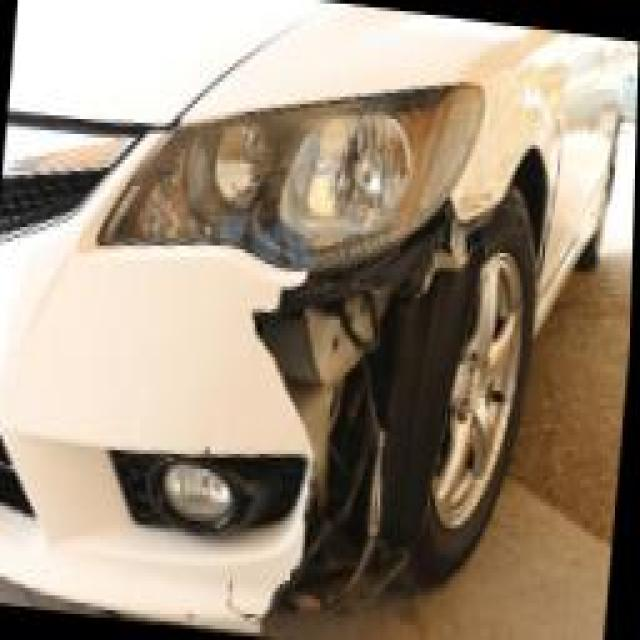Bumper: (58, 220, 455, 640)
